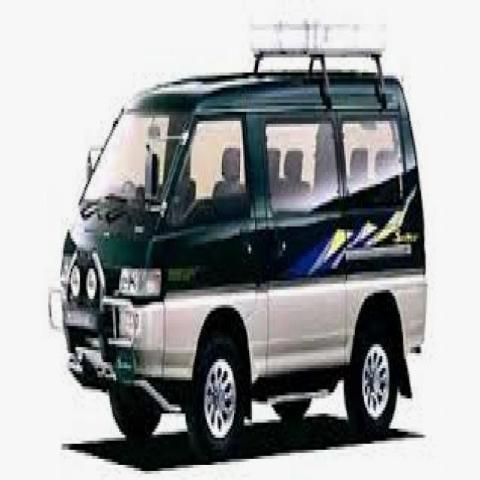van: (48, 48, 428, 450)
